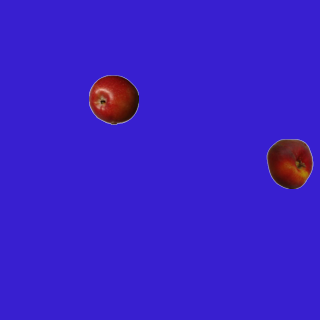Apple Braeburn: (88, 74, 138, 124)
Nectarine Flat: (264, 138, 314, 188)
